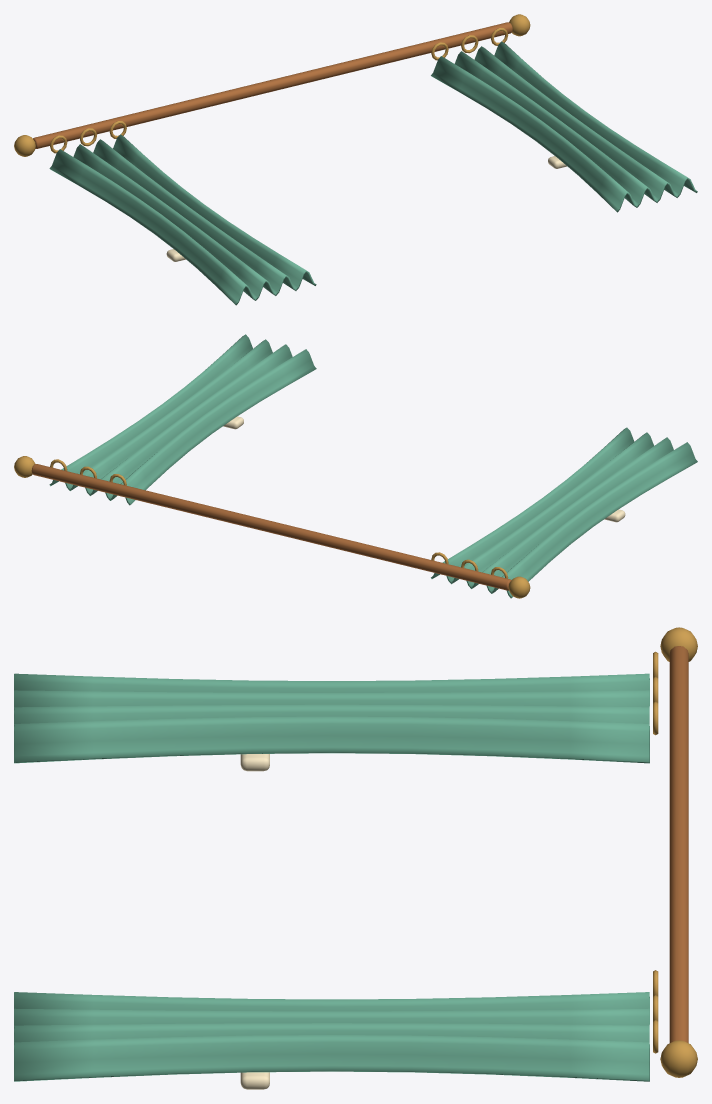
Rendered from ShortWindowCurtains.fbx.
The picture shows the model from 3 angles, top to bottom: view 1: azimuth 30°, elevation 25°; view 2: azimuth 150°, elevation 25°; view 3: azimuth 270°, elevation 25°; orthographic projection. The views are drawn at different scales.
Parts seen in each view (by area): view 1: ShortWindowCurtains; view 2: ShortWindowCurtains; view 3: ShortWindowCurtains.
Part boxes in pixels (x1,y1,x2,y2): ShortWindowCurtains: [14, 14, 697, 305]; ShortWindowCurtains: [14, 334, 697, 598]; ShortWindowCurtains: [14, 627, 697, 1089].
Bounding box in the file's own units: 1.72 × 0.1255 × 1.16.
